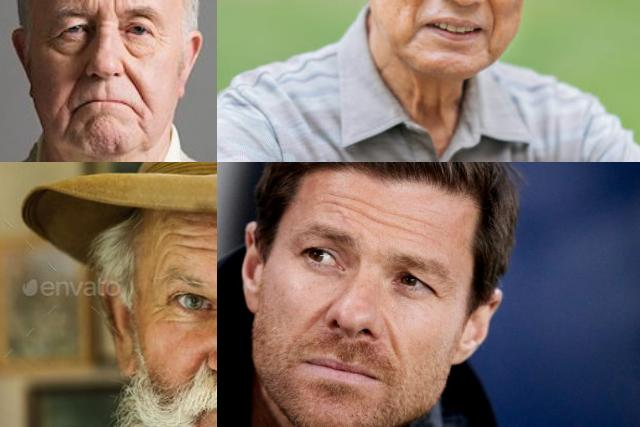crows_feet: (150, 295, 170, 327)
forehead: (170, 222, 208, 252), (397, 211, 431, 241), (328, 192, 359, 222), (366, 201, 390, 237)
frown_line: (109, 0, 120, 18)
gummy_smile: (64, 68, 85, 99), (122, 67, 142, 99), (384, 324, 404, 354), (307, 304, 331, 328), (480, 0, 496, 20), (413, 0, 443, 6)
sad_smile: (60, 110, 74, 138), (134, 115, 148, 137)
